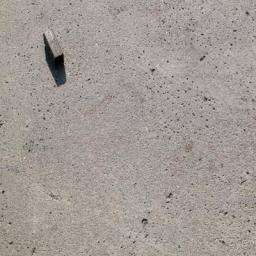FOD: (38, 27, 77, 91)
